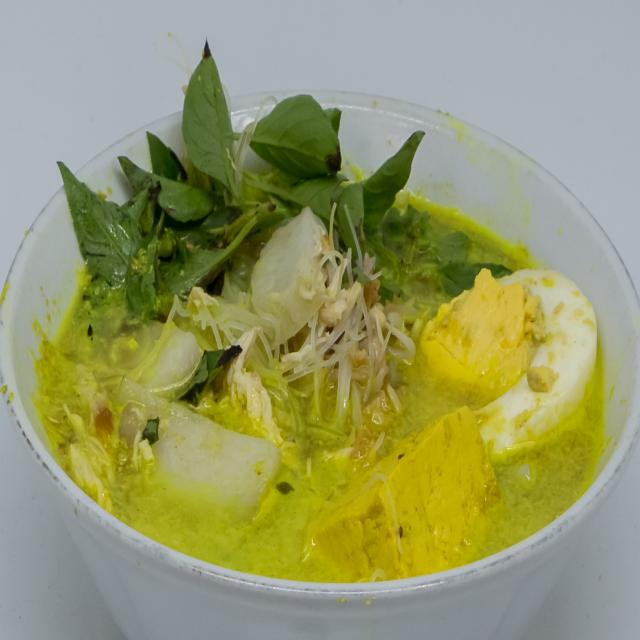Laksa-Bogor: (21, 22, 618, 592)
